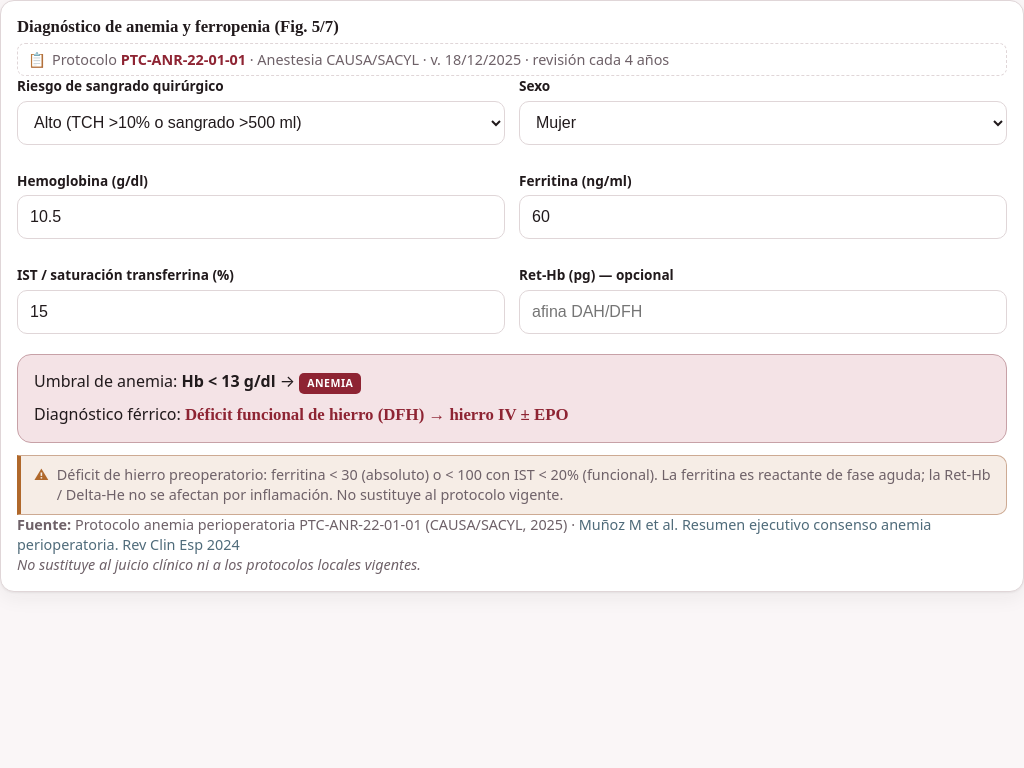
Test: Pantallas de ferropenia — regresión Fase 2a › AnemiaDx: IST no numérica bloquea el resultado (no "normal")
Replace the text in the field labelled "IST / saturación transferrina (%)" with "abc": (261, 312) [17,290,505,334]
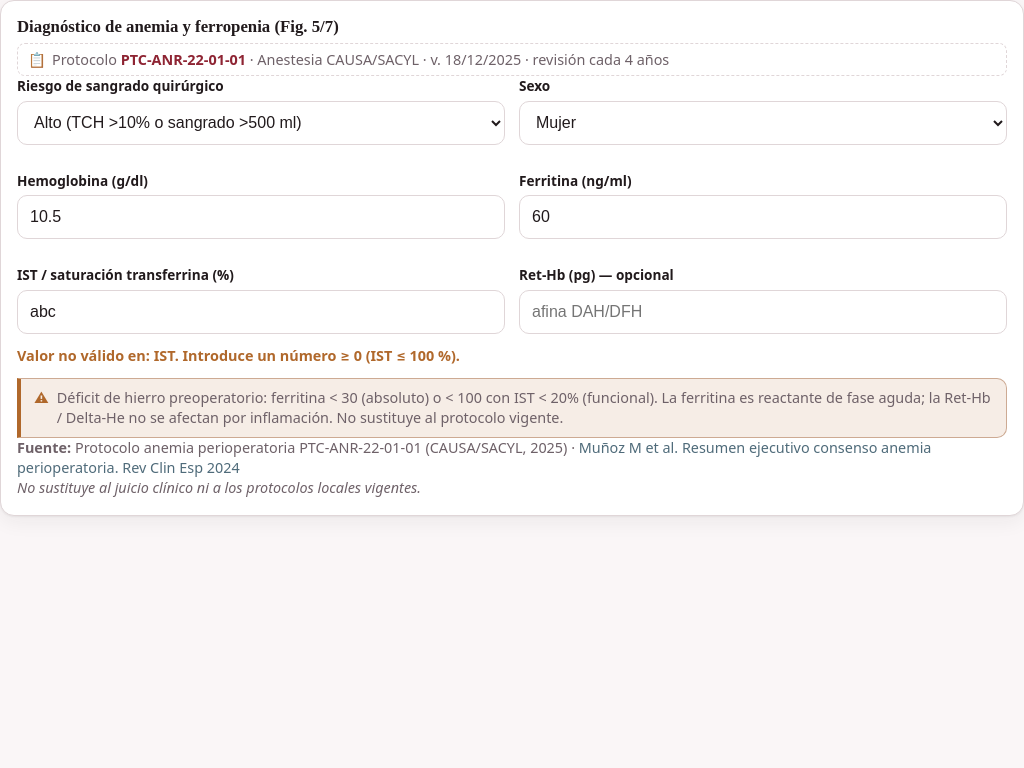
expect the message shows "Valor no válido en: IST": met, box [17,346,460,365]
expect the text "Diagnóstico férrico" is gone: met
